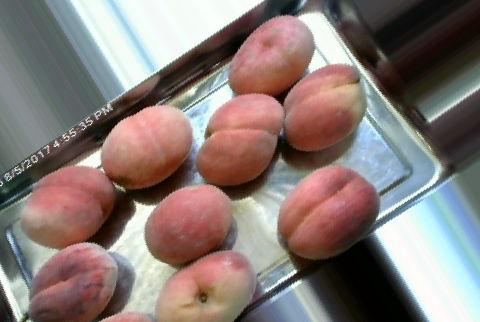Peach: (280, 161, 378, 262), (198, 94, 283, 186), (99, 103, 192, 187), (23, 240, 120, 320), (229, 11, 317, 98), (153, 248, 256, 322), (20, 167, 116, 245), (280, 63, 364, 151), (145, 183, 231, 265)
